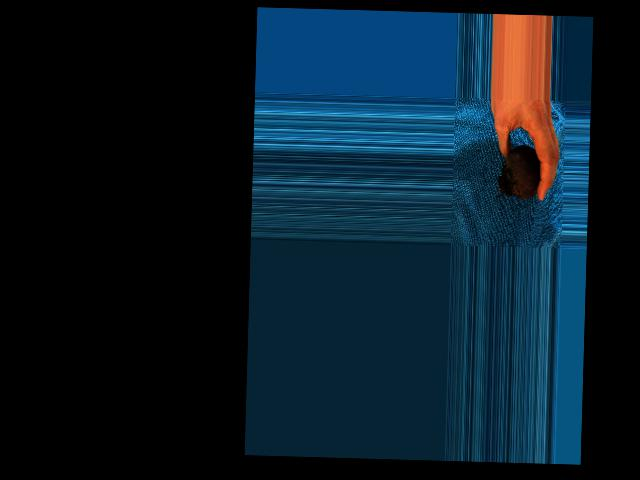beet: (496, 145, 540, 199)
